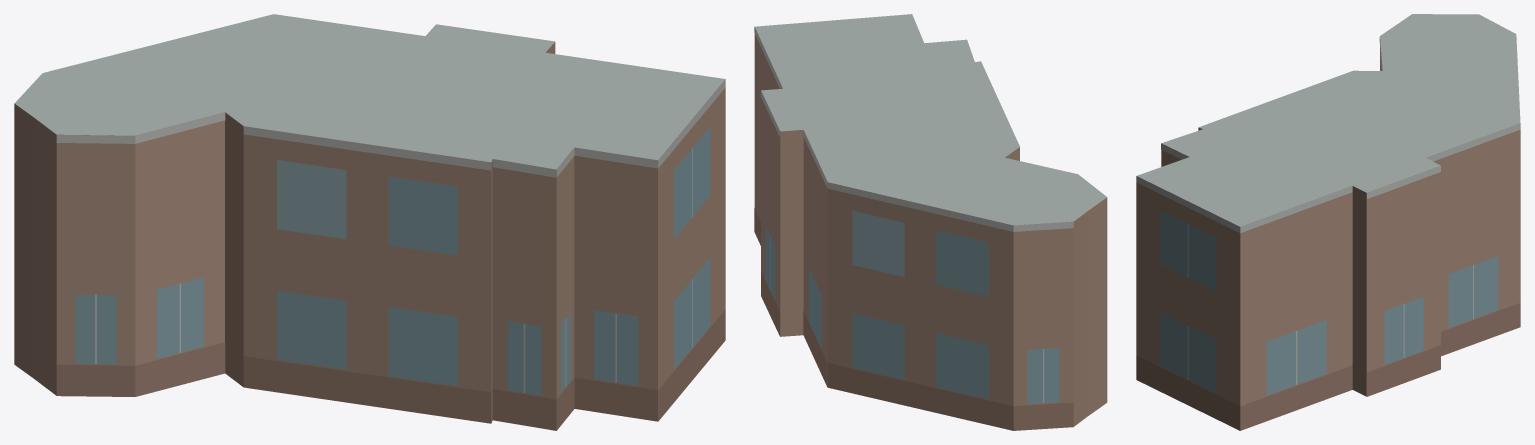
File: survey-upis-32664607.glb
The picture shows the model from 3 angles, left to right: view 1: azimuth 30°, elevation 25°; view 2: azimuth 150°, elevation 25°; view 3: azimuth 270°, elevation 25°; orthographic projection. The views are drawn at different scales.
Visible parts, largest first — view 1: survey-upis-32664607.tmp; view 2: survey-upis-32664607.tmp; view 3: survey-upis-32664607.tmp.
Part boxes in pixels (<box>): survey-upis-32664607.tmp: <box>14,14,725,430</box>; survey-upis-32664607.tmp: <box>754,14,1107,430</box>; survey-upis-32664607.tmp: <box>1136,14,1520,430</box>.
Size of the model in its own units: 17.35 by 7.75 by 13.23.
